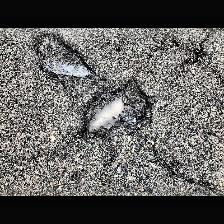pothole: (76, 76, 154, 138), (32, 32, 96, 78)
